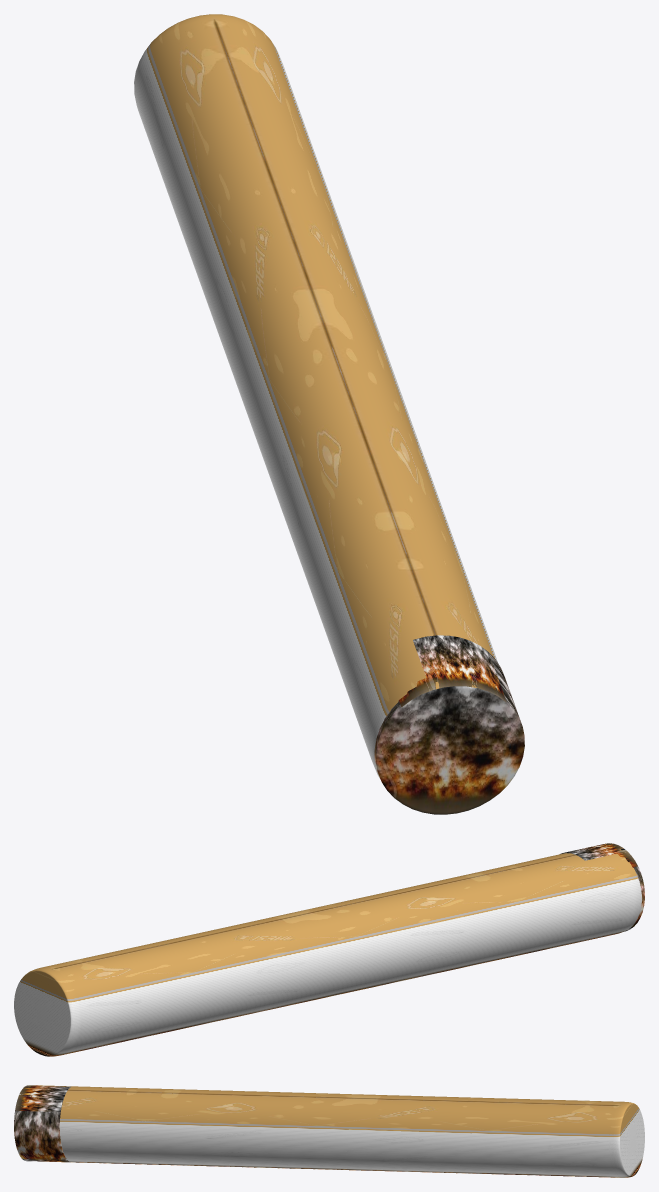
The model's file is Cigarette.fbx.
3 views of the same model, one above another, from view 1: azimuth 30°, elevation 25°; view 2: azimuth 150°, elevation 25°; view 3: azimuth 270°, elevation 25° (orthographic). The views are drawn at different scales.
Parts seen in each view (by area): view 1: Cylinder003 (×2); view 2: Cylinder003 (×2); view 3: Cylinder003 (×2).
Part boxes in pixels (left/top/right/bottom): Cylinder003 (×2): left=134, top=14, right=524, bottom=814; Cylinder003 (×2): left=14, top=843, right=644, bottom=1056; Cylinder003 (×2): left=14, top=1085, right=644, bottom=1177.
Size of the model in its own units: 2.56 by 5.77 by 1.4.
2 materials, 2 textured.
